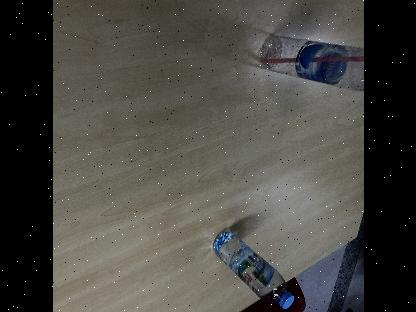Plastic Bottle: (211, 229, 295, 311), (257, 35, 364, 91)
